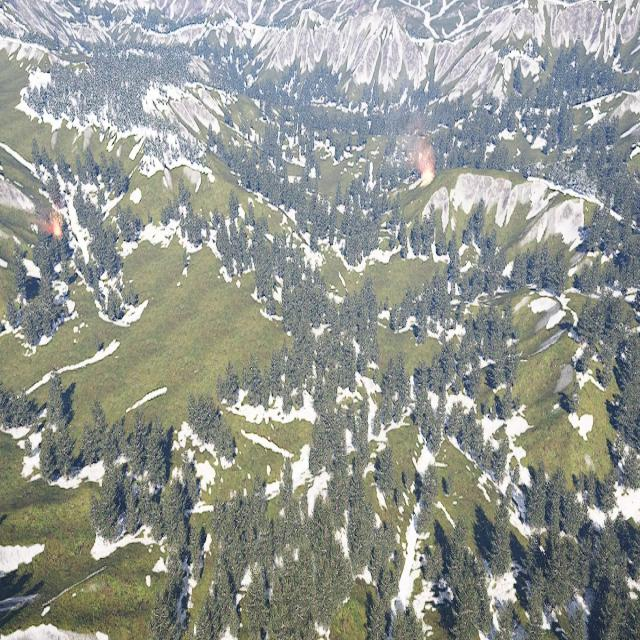fire: (420, 167, 434, 185), (53, 221, 63, 238)
smoke: (404, 110, 434, 169), (39, 208, 57, 234)
